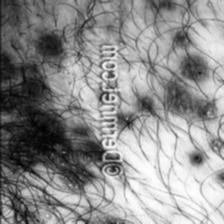Toxin: (0, 36, 94, 190), (164, 55, 218, 121)
